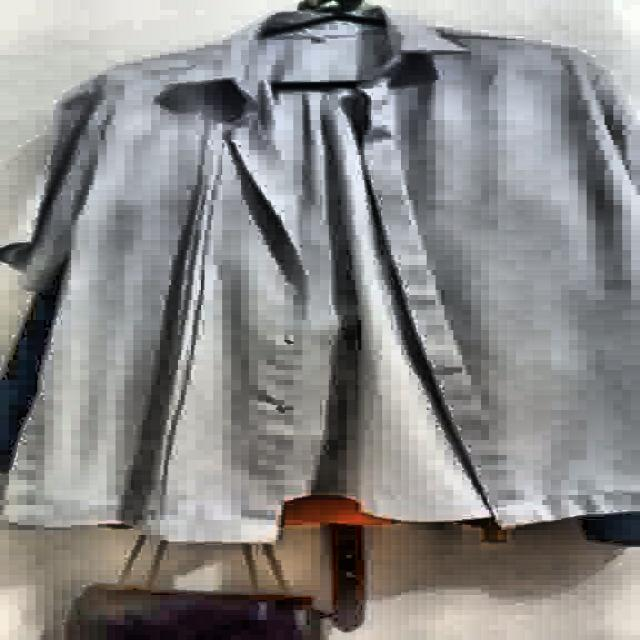clothes: (0, 9, 640, 544)
